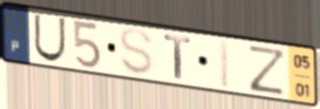5: (71, 18, 104, 71)
I: (218, 38, 233, 92)
S: (118, 26, 156, 77)
T: (162, 33, 193, 82)
U: (32, 12, 68, 64)
Z: (247, 42, 289, 98)
